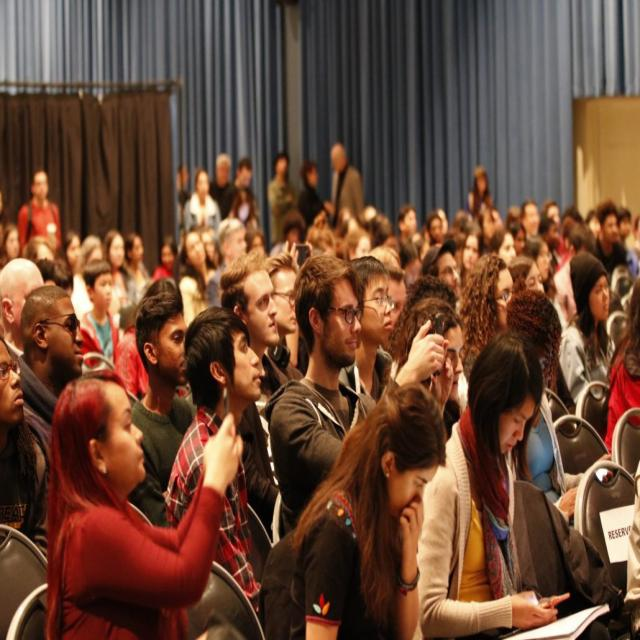body: (412, 330, 614, 640), (41, 366, 248, 640), (262, 253, 456, 542), (284, 381, 447, 640), (161, 304, 263, 614), (329, 254, 456, 473), (504, 287, 614, 528), (218, 256, 306, 547), (124, 289, 198, 531), (14, 283, 84, 468), (391, 297, 468, 445), (556, 250, 620, 409), (456, 250, 516, 417), (0, 336, 47, 538), (603, 268, 640, 466), (496, 198, 639, 248), (376, 200, 498, 254), (0, 254, 50, 380), (77, 255, 126, 378), (224, 188, 272, 307), (264, 251, 305, 382), (385, 249, 466, 314), (78, 255, 122, 371), (204, 214, 250, 314), (15, 166, 63, 258), (178, 229, 220, 328), (323, 142, 367, 231), (101, 227, 140, 317), (309, 207, 376, 257), (266, 150, 299, 250), (624, 450, 640, 640), (182, 168, 222, 235), (221, 158, 256, 224), (123, 233, 154, 306), (267, 208, 308, 262), (296, 159, 327, 230), (208, 152, 237, 221), (505, 254, 546, 296), (148, 235, 179, 289), (467, 165, 494, 219), (0, 222, 21, 266), (202, 228, 222, 266), (173, 159, 190, 202), (67, 234, 80, 264), (247, 231, 268, 249)
